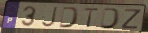3: (21, 5, 38, 28)
D: (99, 7, 122, 30), (58, 6, 81, 29)
J: (41, 6, 59, 28)
T: (83, 7, 101, 29)
Z: (120, 8, 143, 30)
